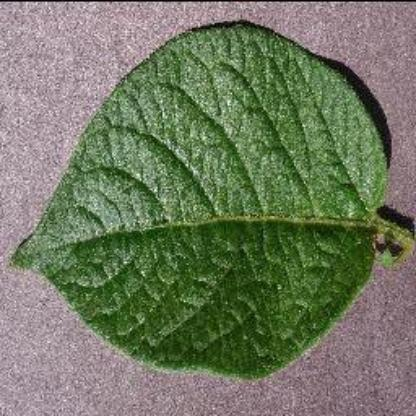Healthy-plant: (11, 17, 412, 387)
